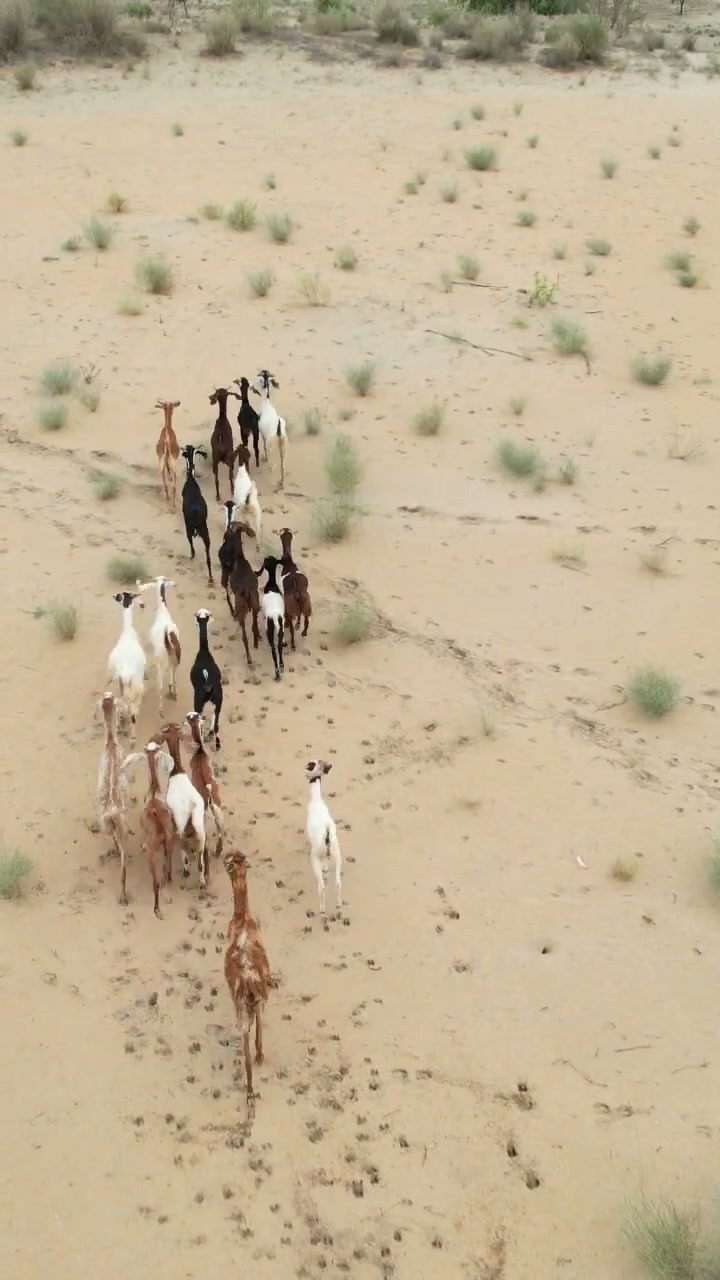animal_foot_print: (127, 680, 470, 1279)
